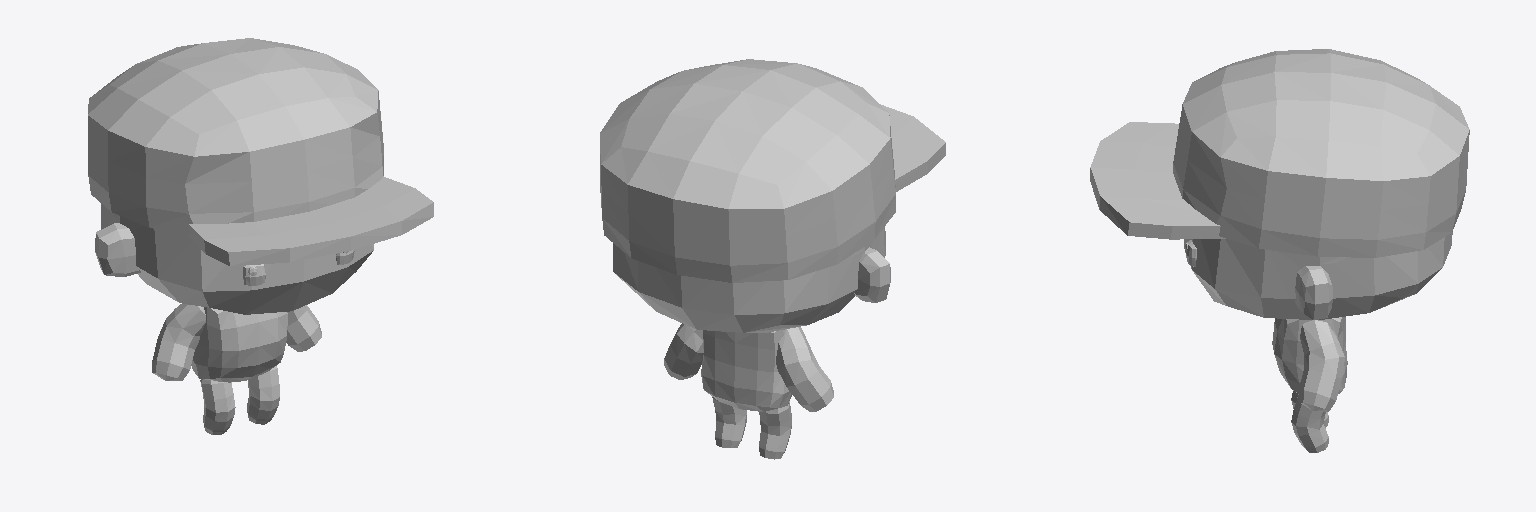
Rendered from idle_0043.obj.
3 views of the same model, side by side, from view 1: azimuth 30°, elevation 25°; view 2: azimuth 150°, elevation 25°; view 3: azimuth 270°, elevation 25° (orthographic).
Visible parts, largest first — view 1: Object_41, Object_42, Object_36, Object_44, Object_38; view 2: Object_41, Object_36, Object_44, Object_42; view 3: Object_41, Object_36, Object_42, Object_44.
Boxes of the visible parts, <box> form: Object_41: <box>88,38,383,234</box>; Object_42: <box>185,113,433,266</box>; Object_36: <box>95,203,373,314</box>; Object_44: <box>152,304,321,434</box>; Object_38: <box>243,250,354,285</box>; Object_41: <box>600,59,895,282</box>; Object_36: <box>613,227,890,332</box>; Object_44: <box>664,323,833,459</box>; Object_42: <box>880,104,945,191</box>; Object_41: <box>1183,49,1469,257</box>; Object_36: <box>1184,232,1452,319</box>; Object_42: <box>1090,104,1226,239</box>; Object_44: <box>1272,317,1347,452</box>.
Bounding box in the file's own units: 0.9691 × 1.21 × 1.14.